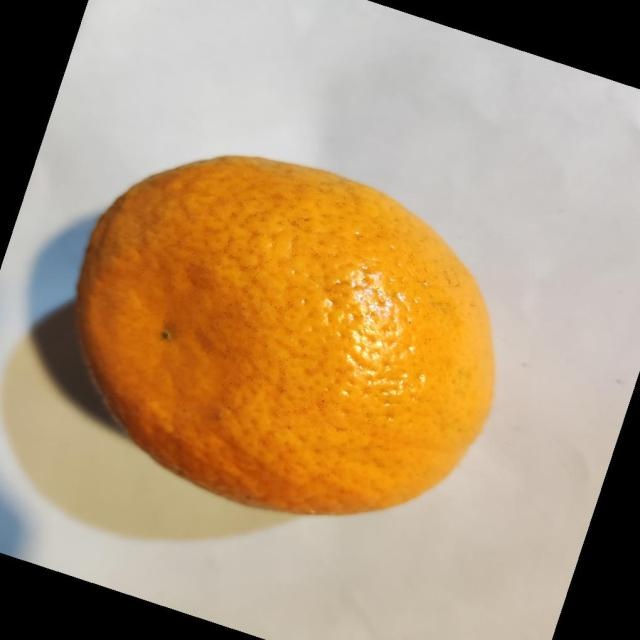agrume: (75, 153, 496, 516)
